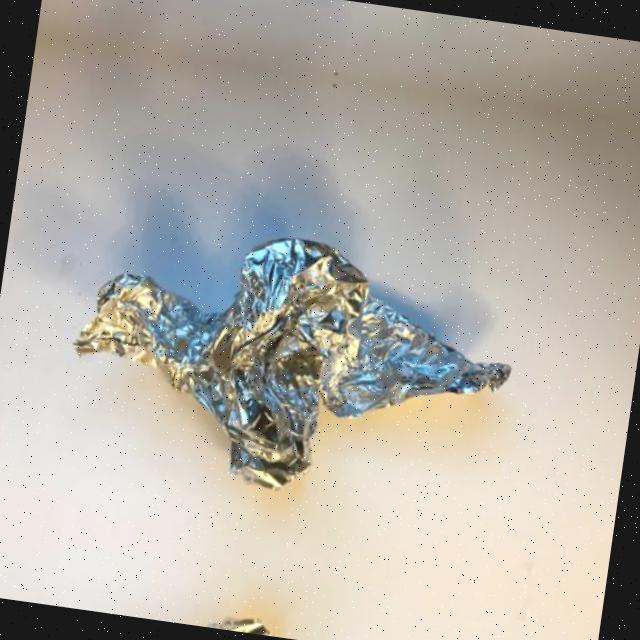Metal: (38, 192, 552, 538), (18, 571, 497, 640)
